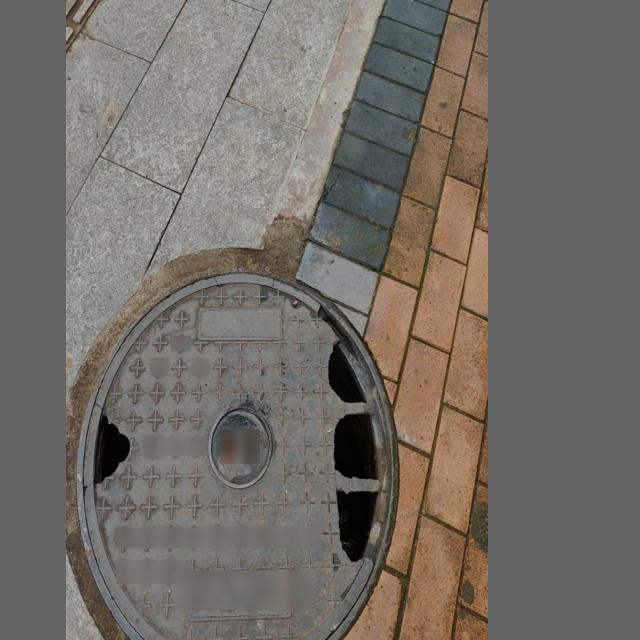broke: (81, 299, 390, 640)
